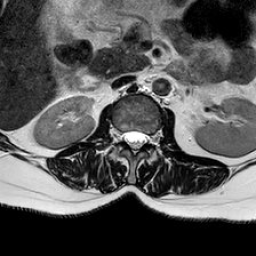CCS_normal: (130, 121, 139, 162)
LFS_normal: (147, 121, 155, 152)
LLS_normal: (139, 121, 148, 154)
RFS_normal: (113, 117, 122, 150)
RLS_normal: (121, 123, 130, 152)
